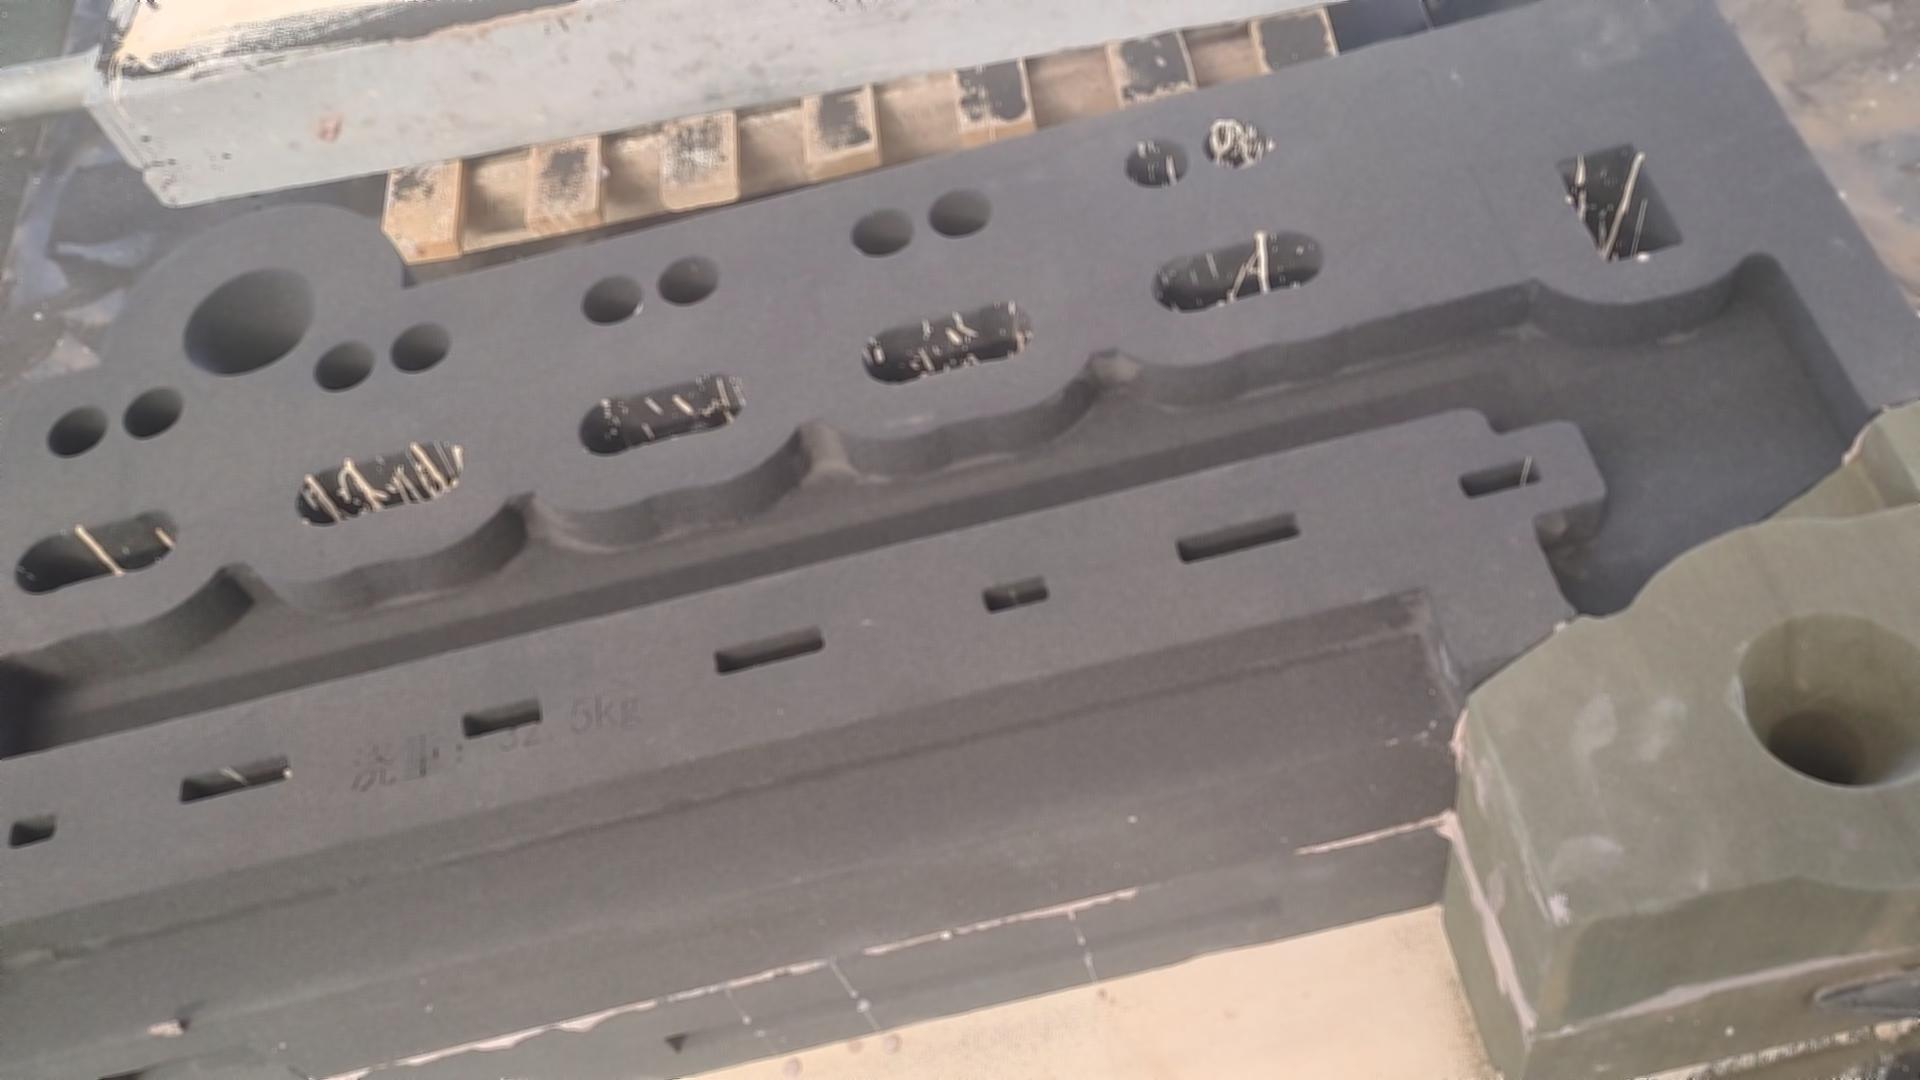pouring hole: (1735, 609, 1920, 787), (179, 266, 314, 376)
